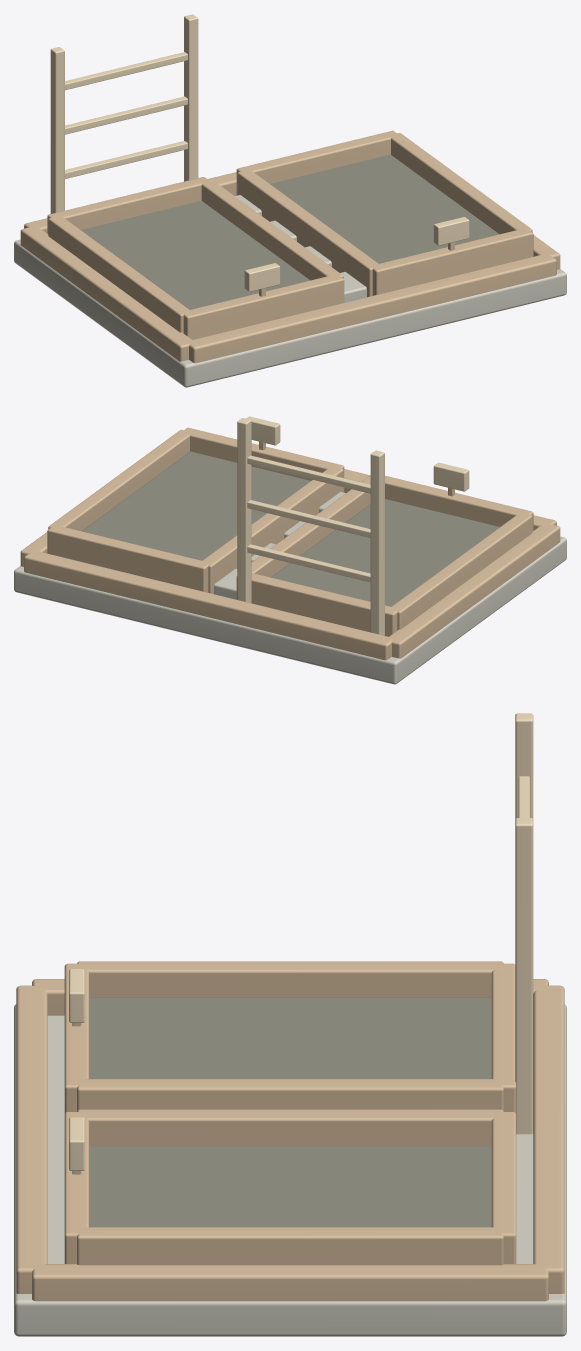
The model's file is kitchen-garden-complete.glb.
The picture shows the model from 3 angles, top to bottom: view 1: azimuth 30°, elevation 25°; view 2: azimuth 150°, elevation 25°; view 3: azimuth 270°, elevation 25°; orthographic projection. The views are drawn at different scales.
Parts seen in each view (by area): view 1: Rounded stone footing.031, Prepared soil.005, Prepared soil.004, Sill beam.124, Bed end.010, Sill beam.126, Bed end.008, Bed side.010, Bed side.008, Bed side.009, Bed side.011, Bed end.011 (+10 smaller); view 2: Rounded stone footing.031, Prepared soil.005, Prepared soil.004, Sill beam.125, Bed end.011, Sill beam.126, Bed end.009, Bed side.008, Bed side.011, Bed side.010, Bed end.008, Trellis upright.002 (+11 smaller); view 3: Prepared soil.004, Prepared soil.005, Rounded stone footing.031, Sill beam.127, Bed side.011, Bed side.008, Bed side.010, Bed side.009, Sill beam.124, Sill beam.125, Trellis upright.003, Bed end.011 (+7 smaller).
Boxes of the visible parts, x1,y1,x2,y2 form: Rounded stone footing.031: [14, 239, 566, 387]; Prepared soil.005: [270, 154, 498, 263]; Prepared soil.004: [81, 201, 310, 309]; Sill beam.124: [188, 253, 556, 363]; Bed end.010: [372, 229, 533, 295]; Sill beam.126: [20, 226, 191, 361]; Bed end.008: [183, 276, 344, 339]; Bed side.010: [237, 170, 378, 297]; Bed side.008: [48, 217, 189, 333]; Bed side.009: [201, 179, 343, 280]; Bed side.011: [391, 133, 532, 234]; Bed end.011: [236, 130, 398, 195]; Rounded stone footing.031: [14, 536, 566, 684]; Prepared soil.005: [82, 451, 310, 560]; Prepared soil.004: [270, 499, 499, 606]; Sill beam.125: [24, 551, 392, 660]; Bed end.011: [47, 525, 209, 592]; Sill beam.126: [387, 524, 560, 658]; Bed end.009: [236, 573, 397, 636]; Bed side.008: [391, 513, 532, 630]; Bed side.011: [48, 429, 189, 531]; Bed side.010: [202, 468, 343, 593]; Bed end.008: [385, 475, 533, 530]; Trellis upright.002: [370, 450, 384, 635]; Prepared soil.004: [89, 997, 491, 1078]; Prepared soil.005: [89, 1146, 491, 1227]; Rounded stone footing.031: [14, 1004, 566, 1336]; Sill beam.127: [32, 1264, 548, 1301]; Bed side.011: [77, 1227, 503, 1265]; Bed side.008: [77, 961, 503, 997]; Bed side.010: [77, 1109, 503, 1145]; Bed side.009: [77, 1079, 503, 1111]; Sill beam.124: [16, 985, 47, 1293]; Sill beam.125: [533, 985, 564, 1293]; Trellis upright.003: [515, 818, 533, 1134]; Bed end.011: [491, 1112, 516, 1263].
Bounding box in the file's own units: 3.16 × 1.7 × 2.46.
